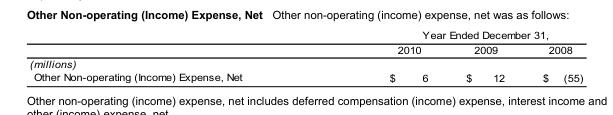table: (28, 28, 582, 83)
table column: (28, 28, 315, 83), (315, 28, 446, 83), (446, 28, 523, 83), (523, 28, 582, 83)
table column header: (28, 28, 582, 56)
table projected row header: (28, 56, 582, 70)
table row: (28, 41, 582, 56), (28, 56, 582, 70), (28, 28, 582, 41), (28, 70, 582, 83)
table spanning cell: (315, 28, 582, 41)
